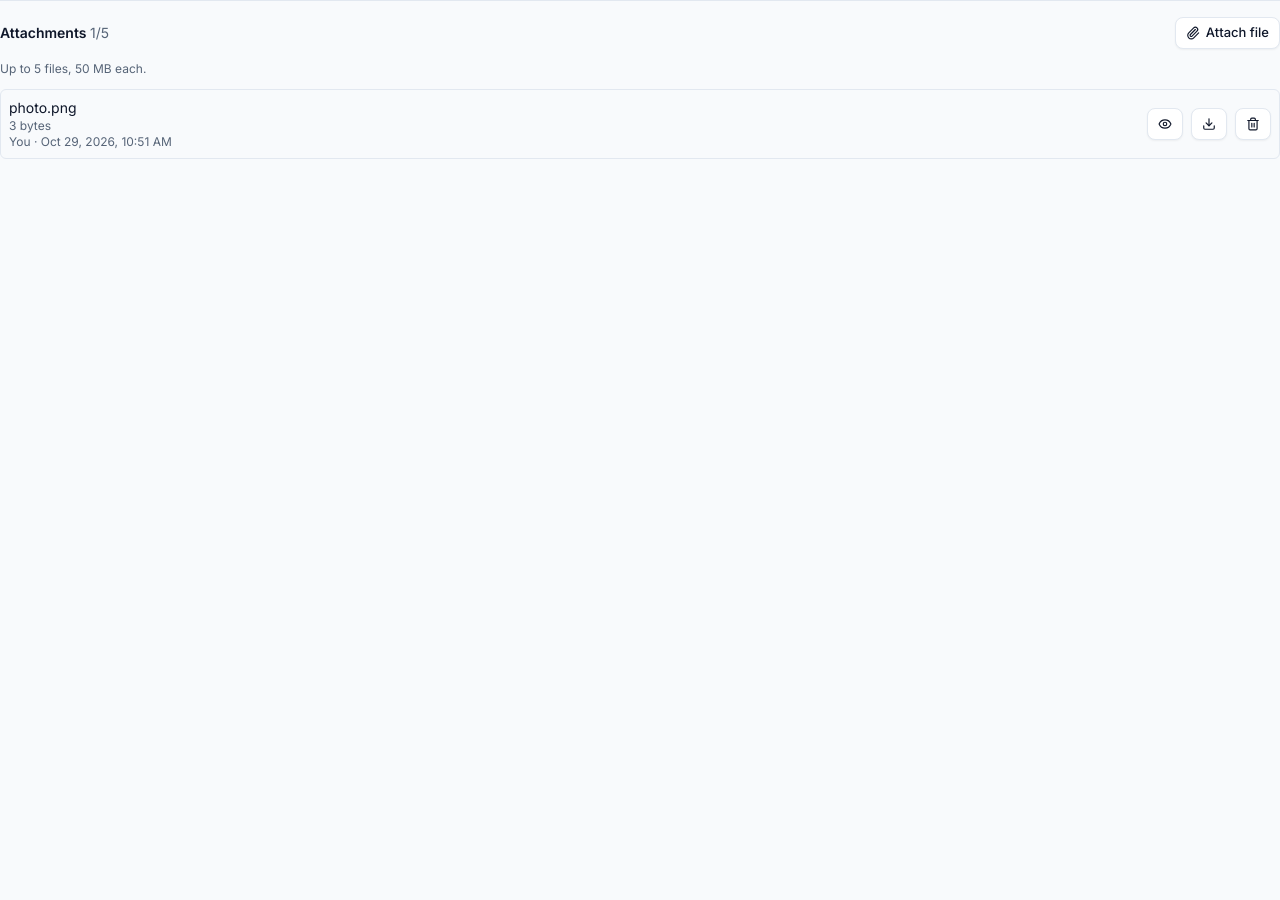
Test: task attachments › discards pending preview URLs after closing and surfaces authorization errors on reopen
Click the button named "Preview photo.png" at (1165, 124), box [1147,108,1183,140]
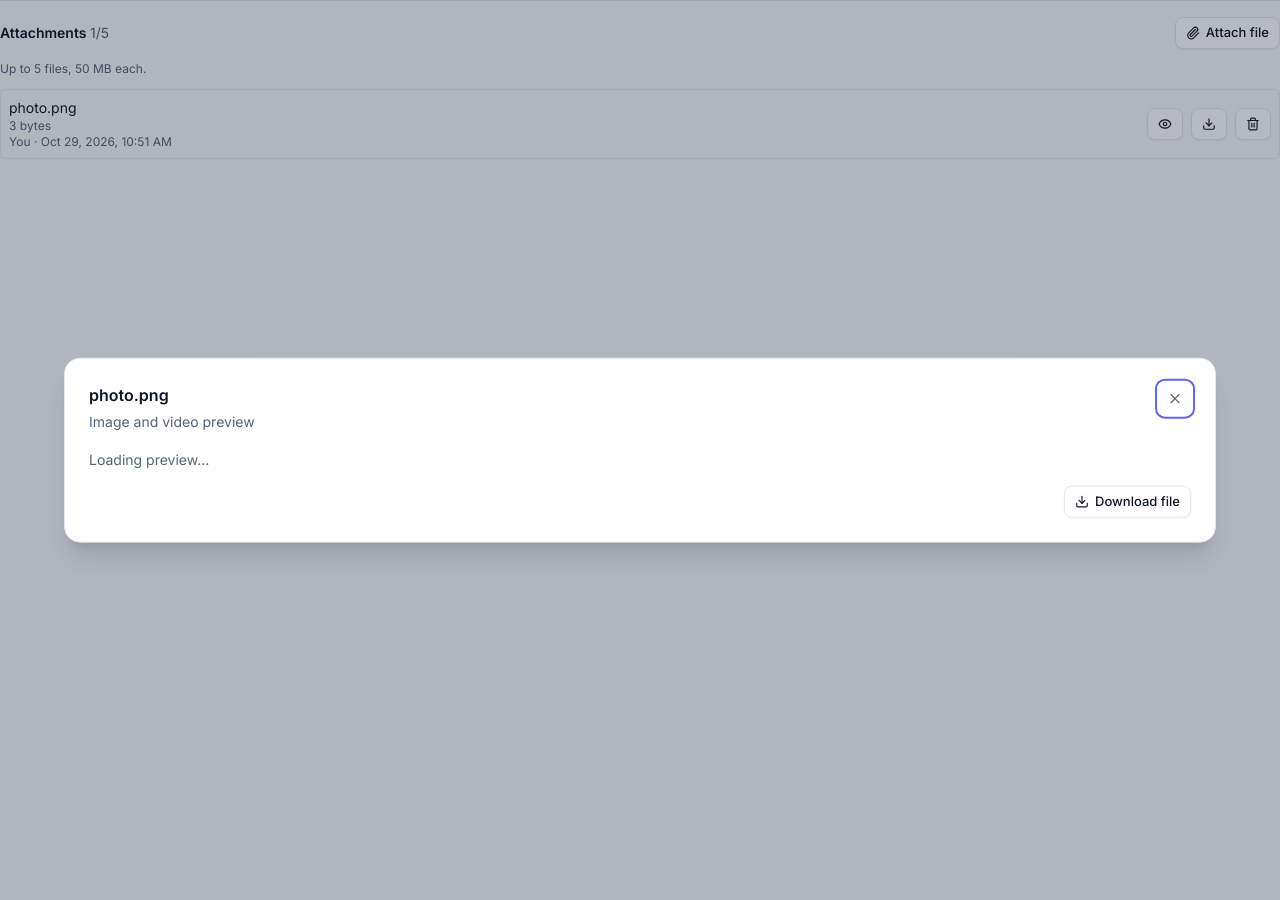
Press Escape
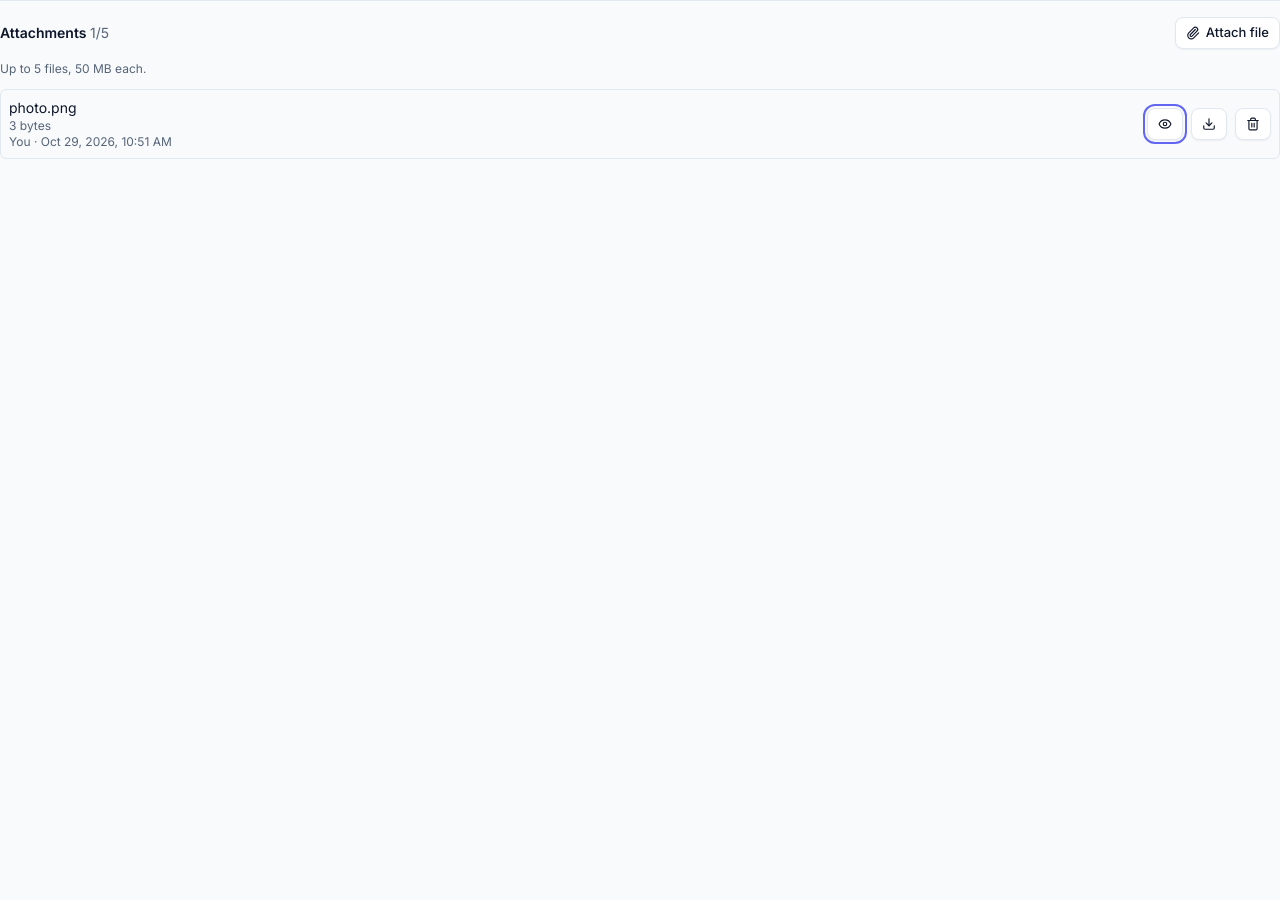
Click the button named "Preview photo.png" at (1165, 124), box [1147,108,1183,140]
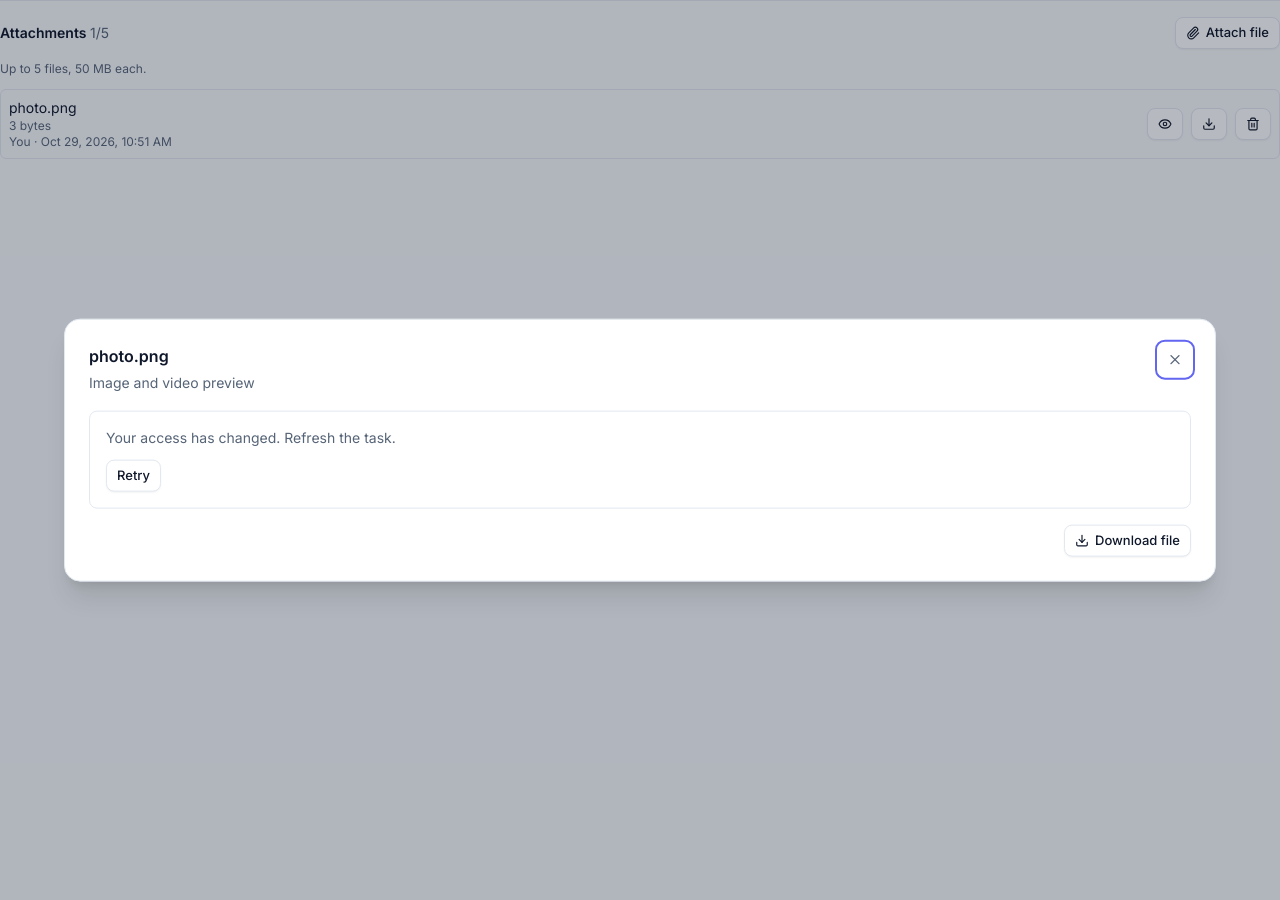
Expected: the message shows "Your access has changed", [106,428,396,445]
